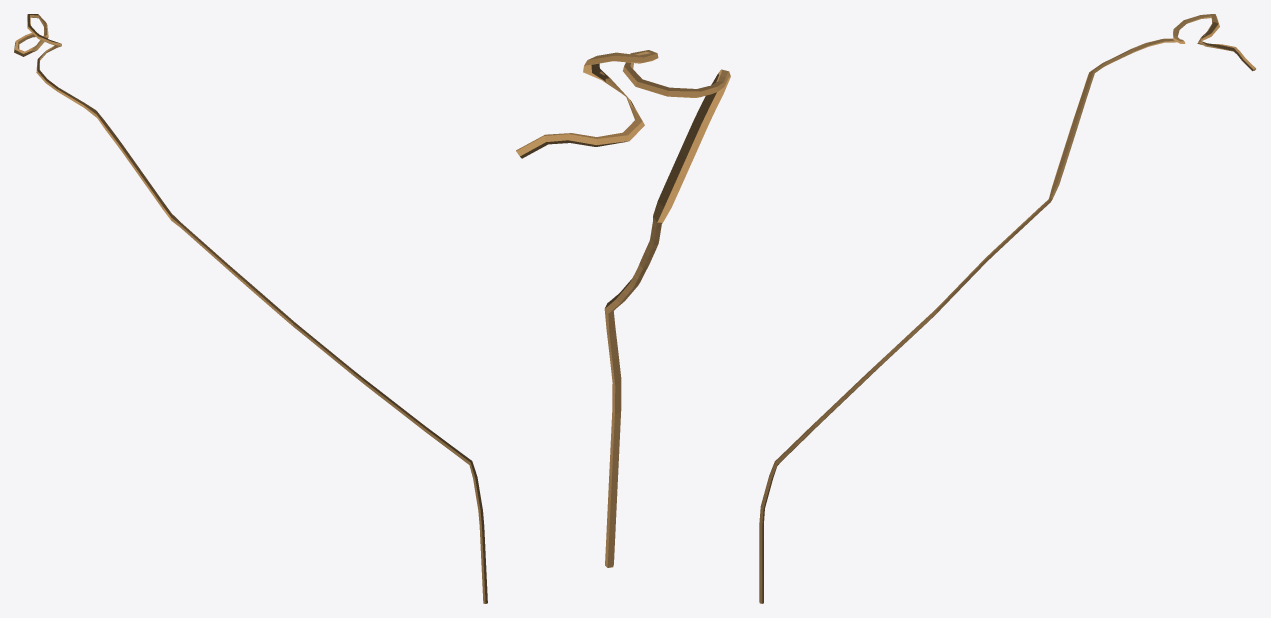
The model's file is rope__a.glb.
The picture shows the model from 3 angles, left to right: view 1: azimuth 30°, elevation 25°; view 2: azimuth 150°, elevation 25°; view 3: azimuth 270°, elevation 25°; orthographic projection. The views are drawn at different scales.
Parts seen in each view (by area): view 1: rope; view 2: rope; view 3: rope.
Part boxes in pixels (x1,y1,x2,y2): rope: (14, 14, 487, 603); rope: (516, 50, 730, 567); rope: (759, 14, 1255, 603).
Bounding box in the file's own units: 3.15 × 5.79 × 5.46.
